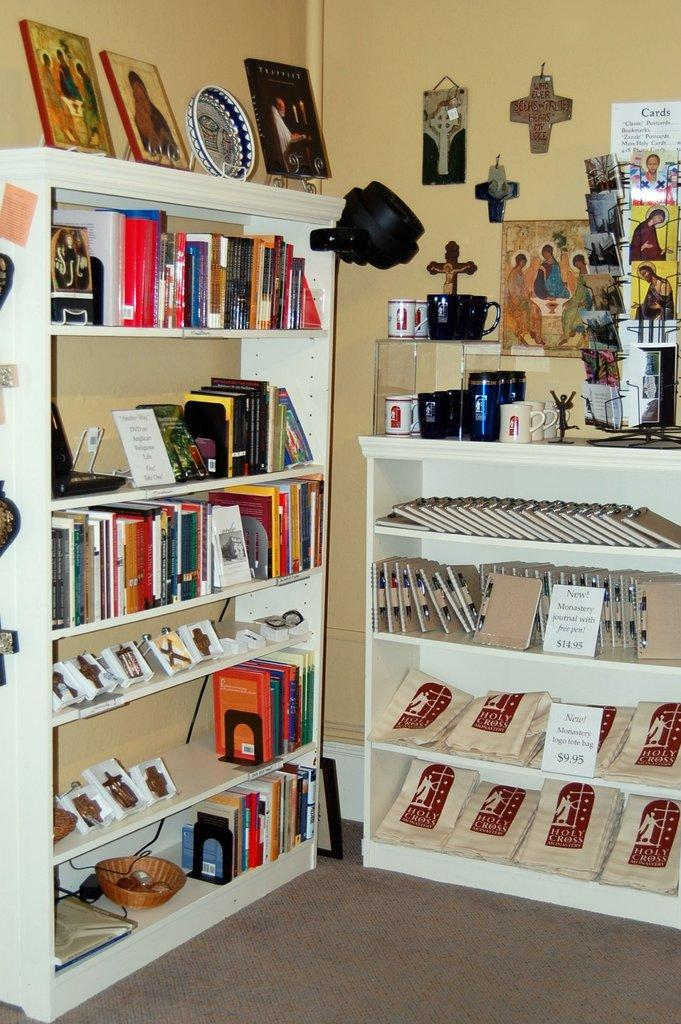Book: (42, 499, 327, 623), (49, 205, 322, 330), (372, 562, 680, 662), (136, 368, 315, 483), (179, 767, 313, 889), (372, 504, 680, 552), (21, 15, 112, 156), (212, 637, 312, 764), (245, 53, 343, 182), (96, 49, 189, 175), (215, 673, 269, 762)
